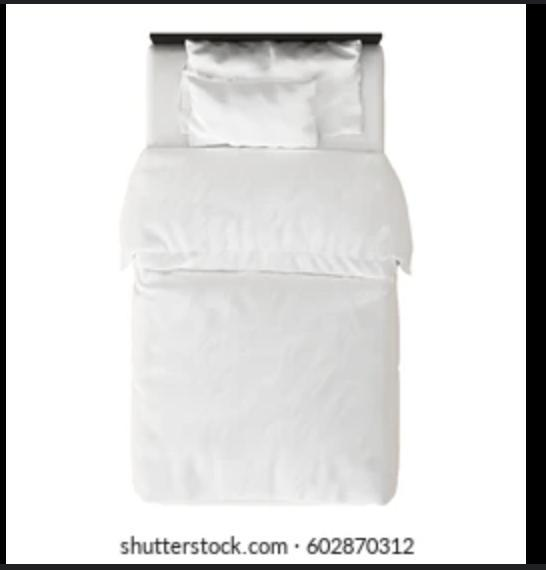Bed-Mattress: (126, 28, 404, 510)
